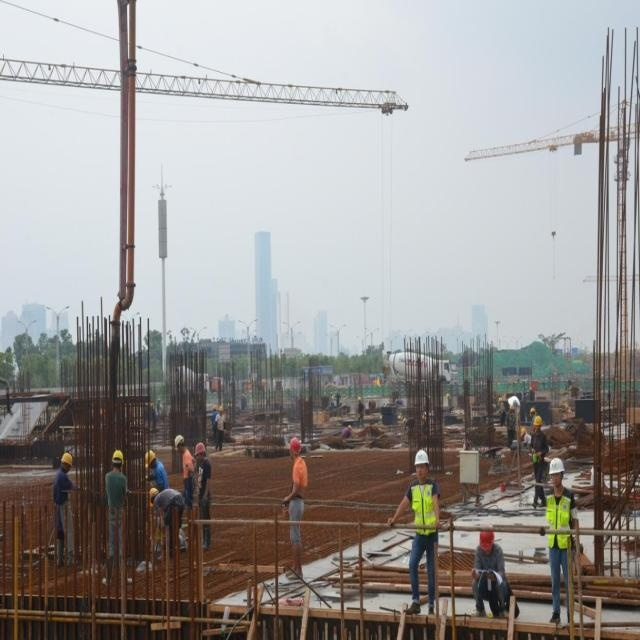Con_Casco: (548, 456, 565, 485), (414, 448, 429, 478)
Con_Chaleco: (407, 482, 438, 535), (546, 492, 574, 549)
